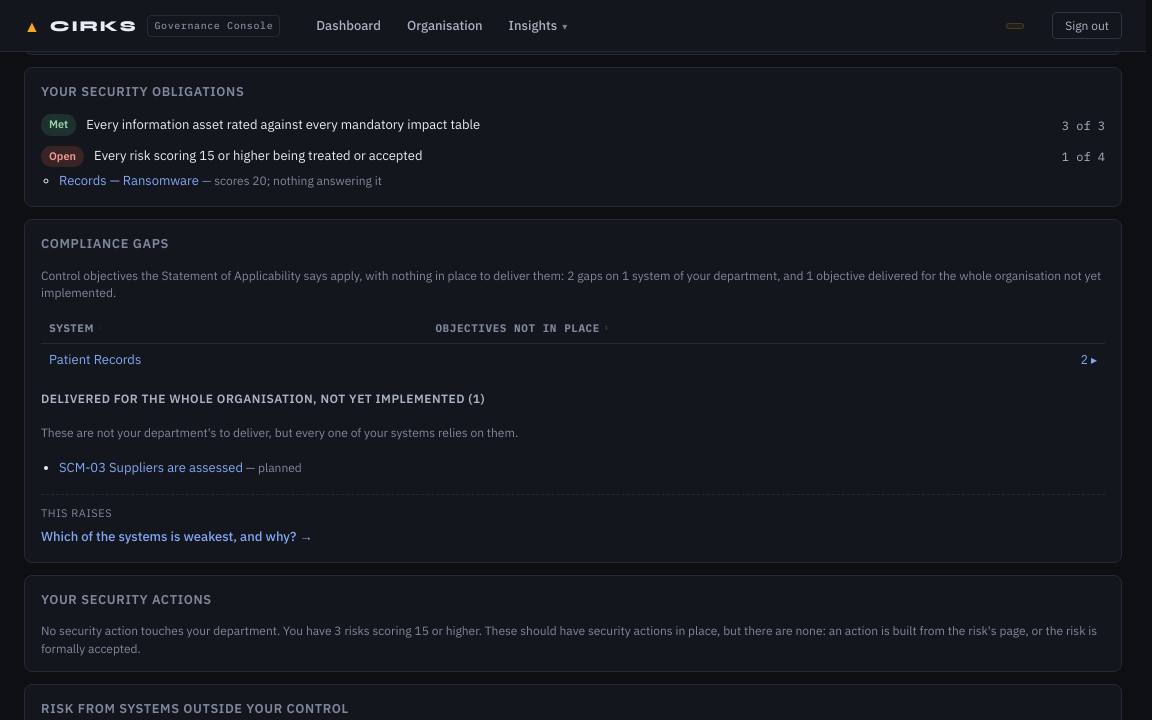
Test case: My department › lists the compliance gaps: per system, and for the whole organisation
(page scrolled)
Check: the text "2 gaps on 1 system of your department, and 1 objective delivered for the whole organisation not yet implemented" is shown, box [41,267,1105,302]
Click the button "2 ▸". click: (1089, 360)
box: [1081,353,1097,367]
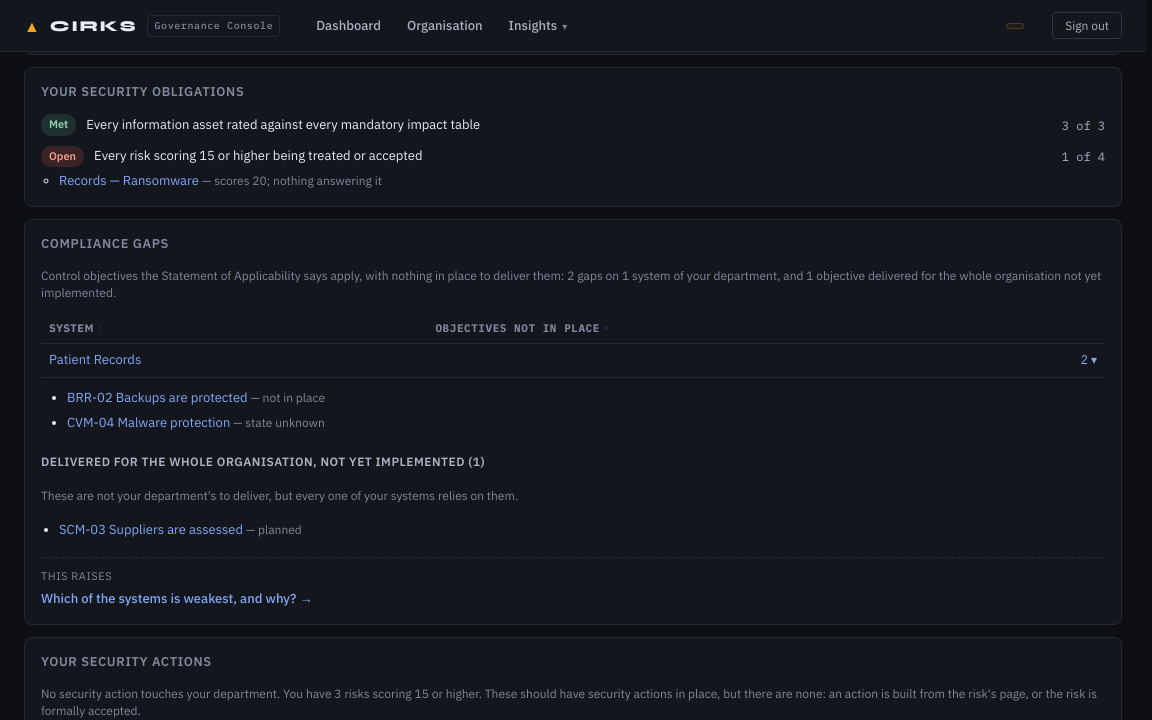
Check: the text "— planned" is shown, box [243,522,302,537]
Check: the text "— state unknown" is shown, box [230,415,325,430]
